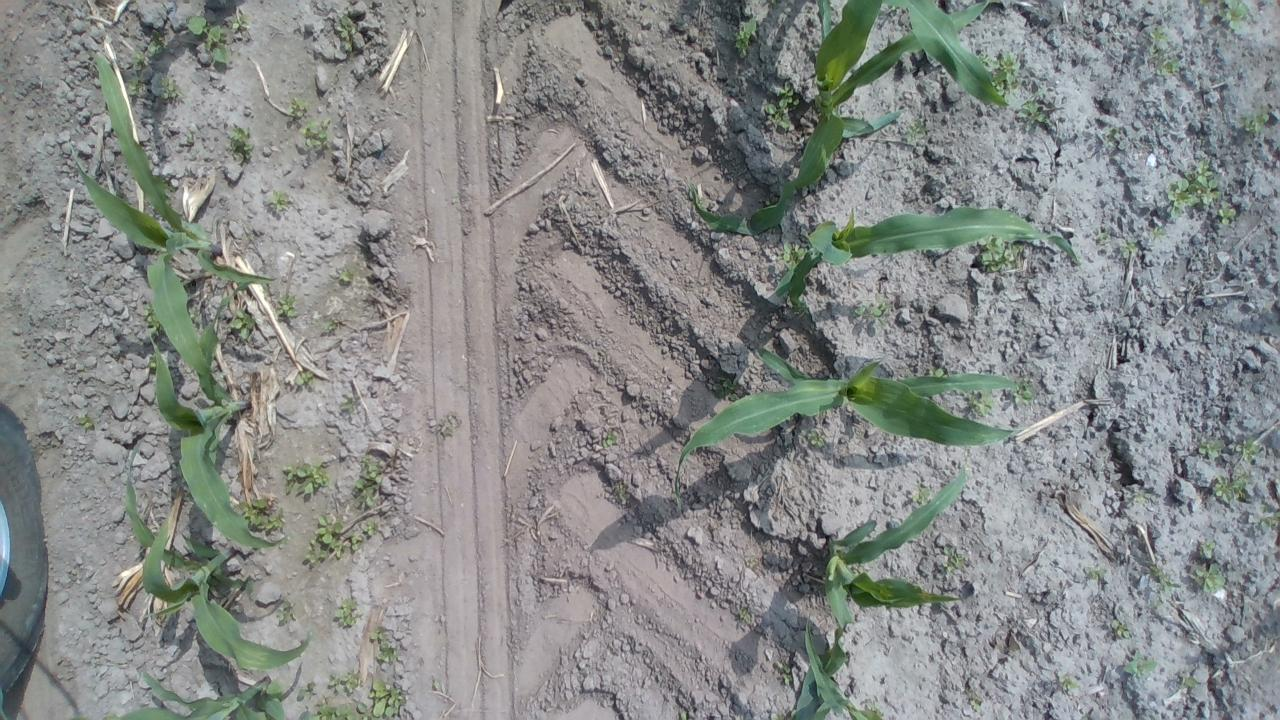Maize: (676, 1, 1024, 238), (667, 331, 1036, 514), (76, 49, 235, 400), (118, 436, 313, 668), (140, 278, 294, 556), (746, 203, 1086, 322), (820, 456, 979, 640), (85, 665, 312, 720), (778, 609, 872, 720)
Weeds: (298, 673, 416, 720), (1165, 150, 1224, 219), (187, 13, 233, 68), (1186, 537, 1230, 594), (352, 455, 396, 511), (302, 512, 342, 570), (761, 80, 798, 138), (1144, 24, 1182, 80), (282, 458, 332, 500), (128, 38, 166, 93), (244, 496, 290, 538), (1206, 468, 1252, 507), (1014, 84, 1054, 128), (978, 234, 1022, 272), (345, 518, 385, 556), (1118, 649, 1159, 686), (298, 122, 339, 156), (988, 49, 1022, 90), (370, 626, 402, 669), (226, 121, 258, 163), (940, 542, 973, 580), (735, 16, 761, 63), (1213, 3, 1255, 32), (963, 386, 998, 420), (1238, 106, 1273, 140), (327, 596, 362, 630), (777, 238, 811, 271), (262, 187, 296, 219), (847, 299, 894, 322), (1146, 567, 1176, 603), (333, 16, 359, 55), (1106, 614, 1140, 643), (228, 311, 262, 339), (274, 294, 304, 324), (768, 658, 798, 688), (902, 118, 932, 148), (281, 92, 310, 122), (1232, 432, 1265, 458), (1008, 384, 1036, 414), (226, 10, 256, 37), (1052, 672, 1090, 692), (594, 425, 620, 453), (1196, 433, 1220, 463), (1218, 193, 1240, 225), (1097, 125, 1123, 152), (808, 423, 832, 452), (161, 76, 184, 106), (1131, 490, 1165, 510), (334, 261, 358, 289), (605, 483, 632, 507), (1084, 563, 1108, 587), (1177, 670, 1199, 694), (966, 690, 989, 712), (78, 414, 103, 433), (296, 367, 318, 388), (735, 604, 753, 628), (908, 483, 928, 504), (1148, 222, 1168, 242), (1259, 510, 1280, 528), (862, 704, 888, 718), (1122, 240, 1140, 260), (1092, 228, 1112, 244), (741, 554, 762, 569), (678, 708, 690, 718)
